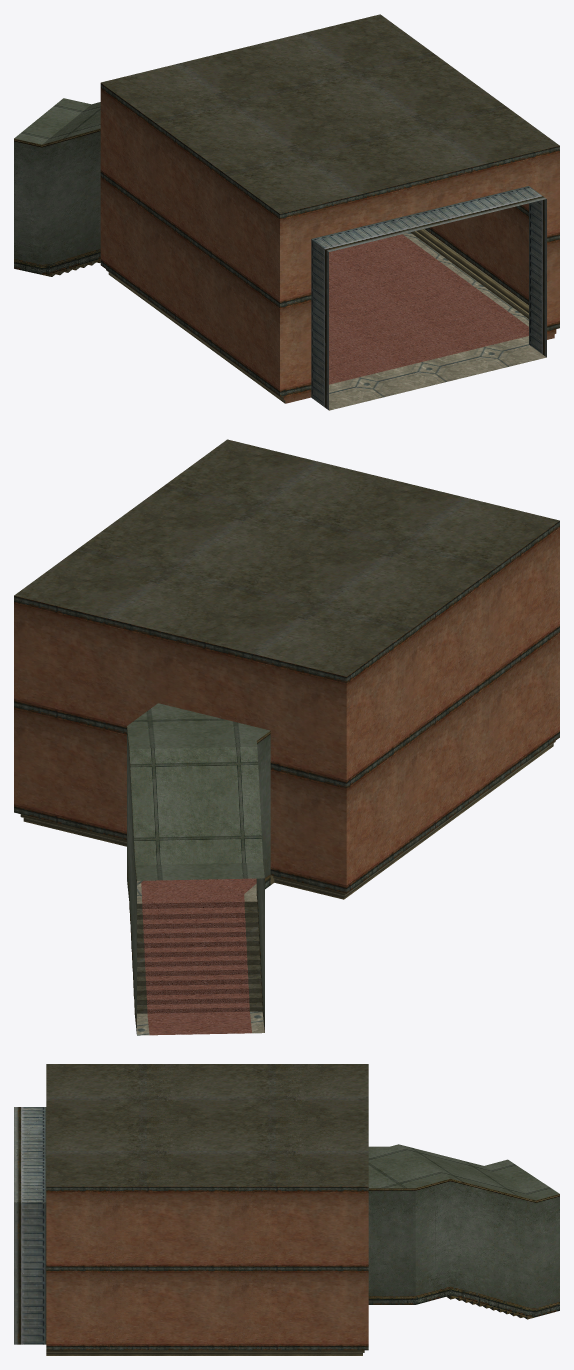
The model's file is mun_all_guild_theater_s01_r7_side_backstage_mesh_r7.fbx.
The picture shows the model from 3 angles, top to bottom: view 1: azimuth 30°, elevation 25°; view 2: azimuth 150°, elevation 25°; view 3: azimuth 270°, elevation 25°; orthographic projection. The views are drawn at different scales.
Parts seen in each view (by area): view 1: mesh_node; view 2: mesh_node; view 3: mesh_node.
Boxes of the visible parts, x1,y1,x2,y2 form: mesh_node: [14, 14, 559, 410]; mesh_node: [14, 439, 559, 1035]; mesh_node: [14, 1064, 559, 1355].
Bounding box in the file's own units: 9.28 × 7.4 × 16.94.
